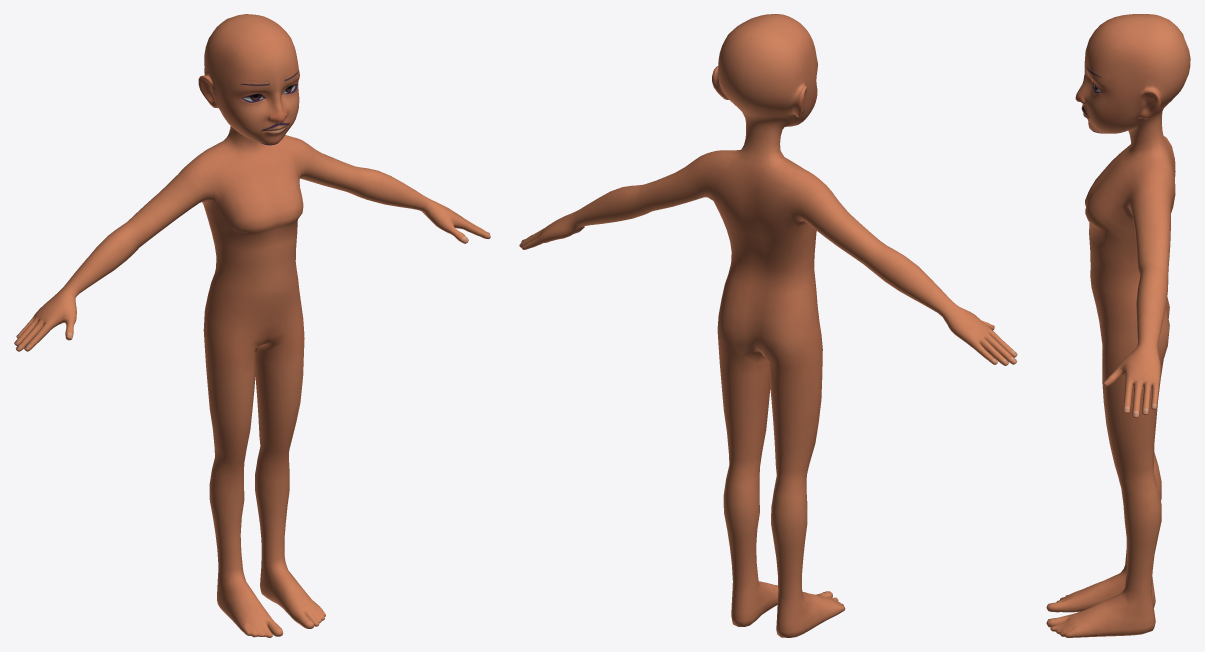
File: frame_0026.glb
3 views of the same model, side by side, from view 1: azimuth 30°, elevation 25°; view 2: azimuth 150°, elevation 25°; view 3: azimuth 270°, elevation 25° (orthographic). The views are drawn at different scales.
Visible parts, largest first — view 1: frame_0026_head_geo; view 2: frame_0026_head_geo; view 3: frame_0026_head_geo.
Boxes of the visible parts, x1=… form: frame_0026_head_geo: x1=14, y1=14, x2=490, y2=637; frame_0026_head_geo: x1=519, y1=14, x2=1017, y2=637; frame_0026_head_geo: x1=1046, y1=14, x2=1190, y2=637.
Bounding box in the file's own units: 1.28 × 1.5 × 0.3253.
3 materials, 3 textured.
